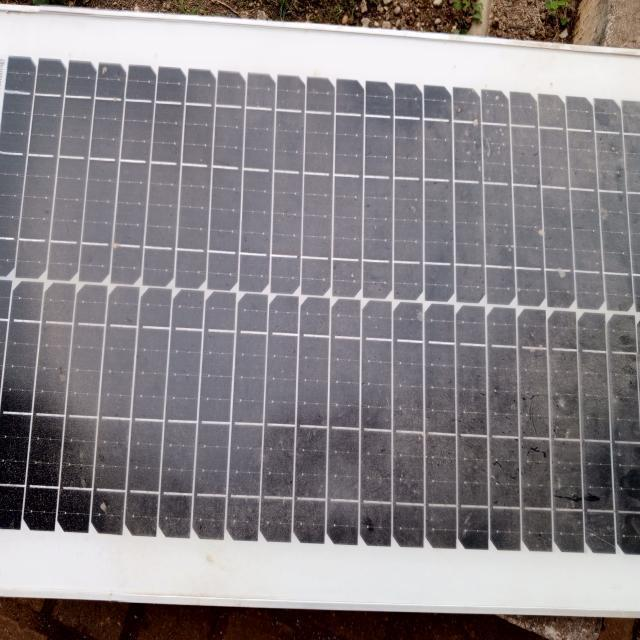Anomaly Solar Panel: (4, 55, 607, 560)
Surface Contaminant: (4, 55, 607, 560)
